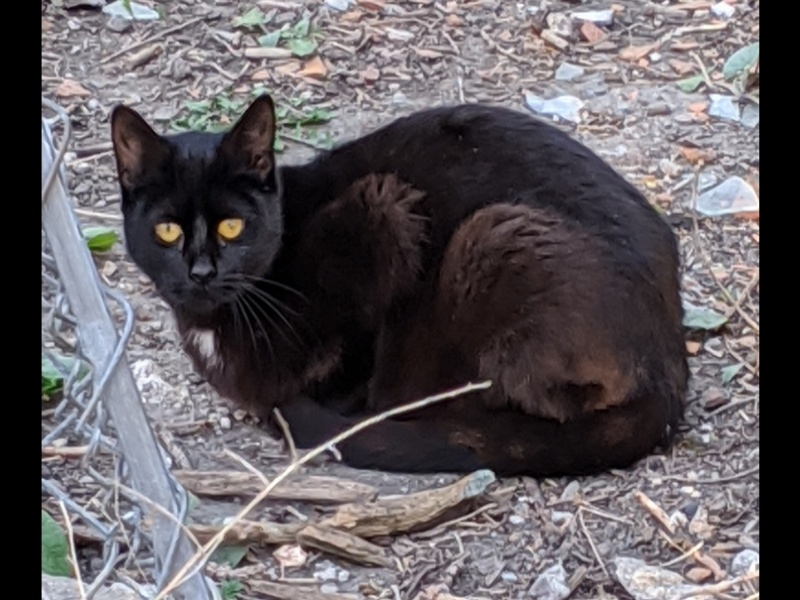cat: (103, 88, 700, 484)
